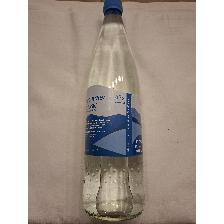Wasser: (83, 0, 149, 224)
